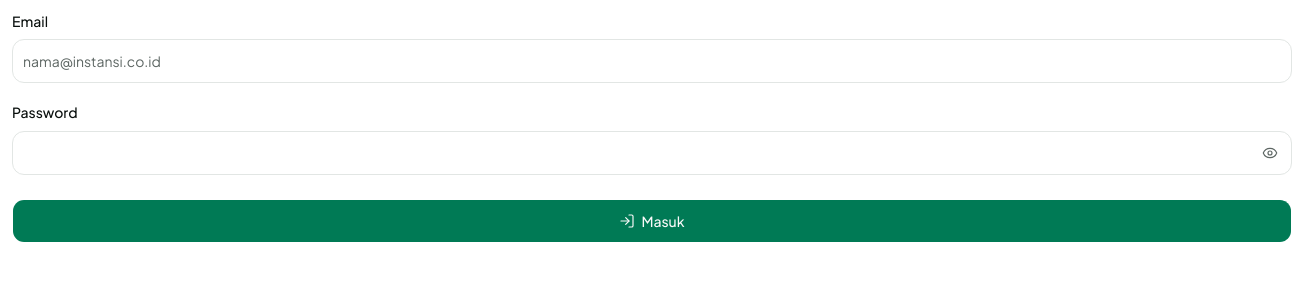
Test: LoginForm (validasi tanpa Zod) › email tidak valid → pesan format
The width and height of the screenshot is (1304, 287).
Type "budi@kantor" into the field labelled "Email" at x=652, y=61, box 12,39 -> 1292,83
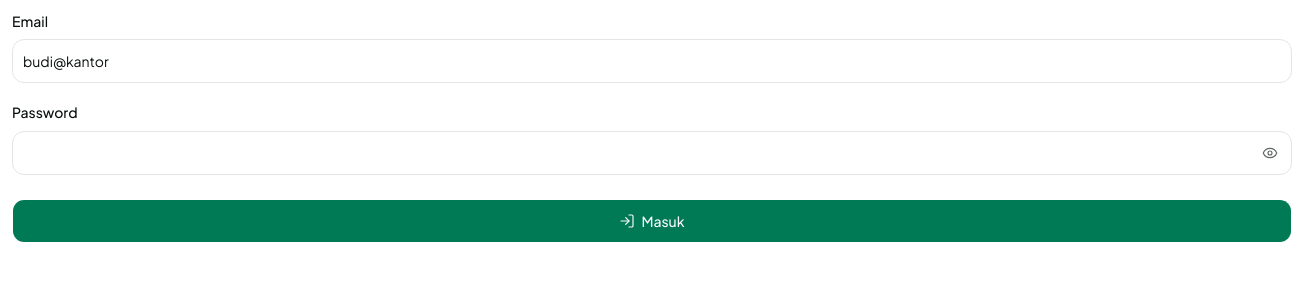
Type "rahasia" into the password field labelled "Password" at x=652, y=152, box 12,130 -> 1292,174
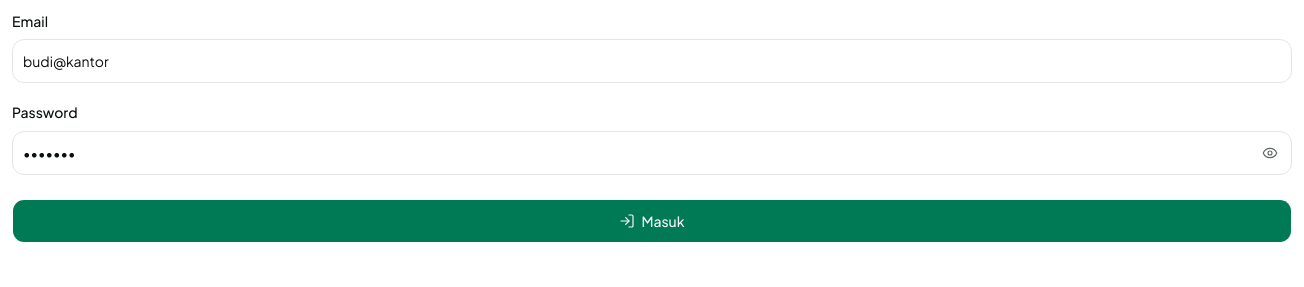
Click the button "Masuk" at x=652, y=220, box 12,198 -> 1292,242
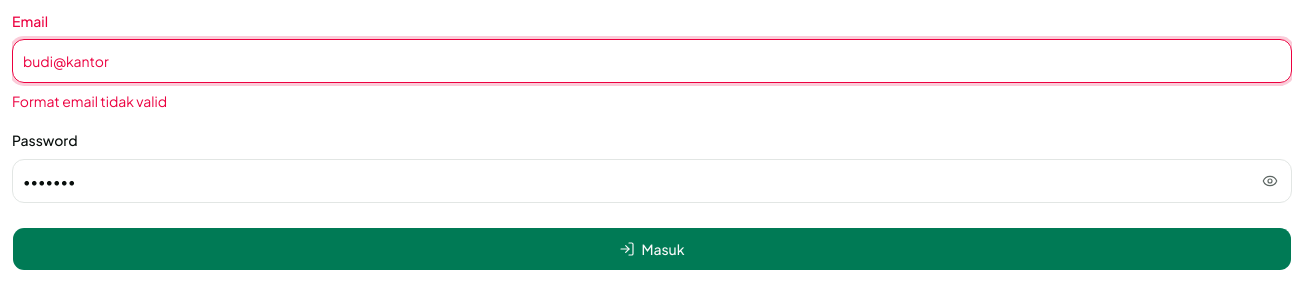
expect the text "Format email tidak valid" is shown: met, box 12,92 -> 167,110
